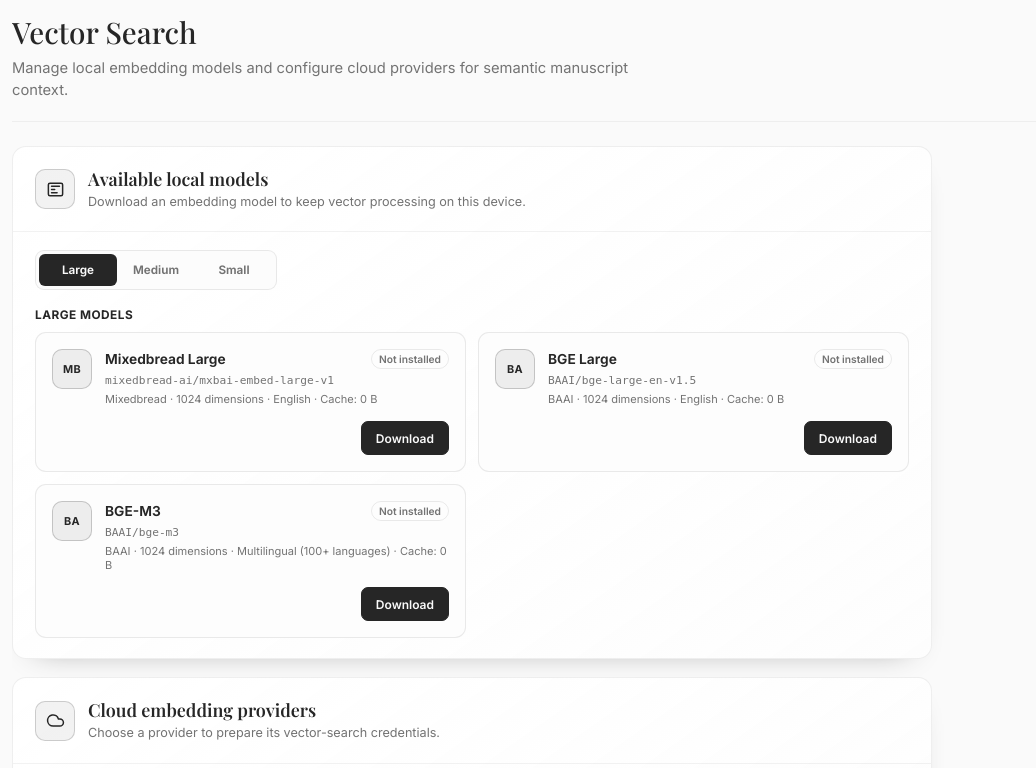
Test case: VectorConfigurationSettingsComponent › loads the catalog and switches between model tiers
Expected: the number of elements with class "local-model-card" is 3, x1=35 y1=332 x2=466 y2=472; x1=478 y1=332 x2=909 y2=472; x1=35 y1=484 x2=466 y2=638
Step 1. Click the radio button labelled "Medium" → [156, 270], box x1=117 y1=254 x2=195 y2=286
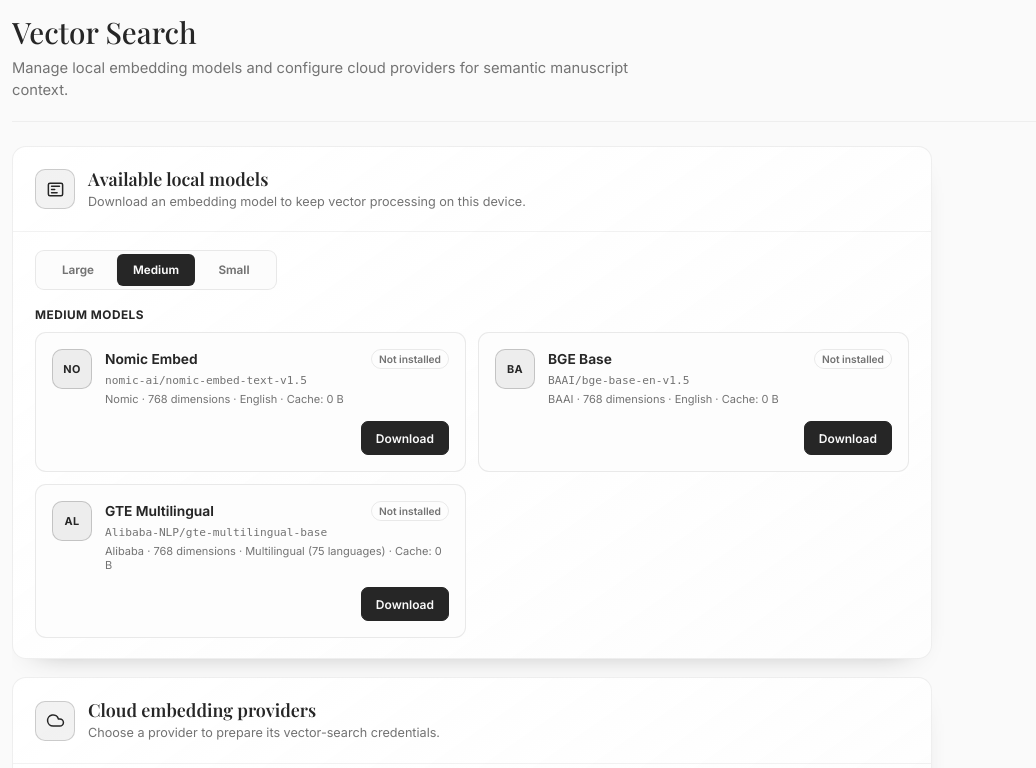
Expected: the number of elements with class "local-model-card" is 3, x1=35 y1=332 x2=466 y2=472; x1=478 y1=332 x2=909 y2=472; x1=35 y1=484 x2=466 y2=638
Now the heading "Medium models" is shown, box x1=35 y1=308 x2=144 y2=322
Now the element with class "local-model-card" shows "768 dimensions", box x1=105 y1=544 x2=442 y2=572
Step 2. Click the radio button labelled "Small" → [234, 270], box x1=195 y1=254 x2=273 y2=286
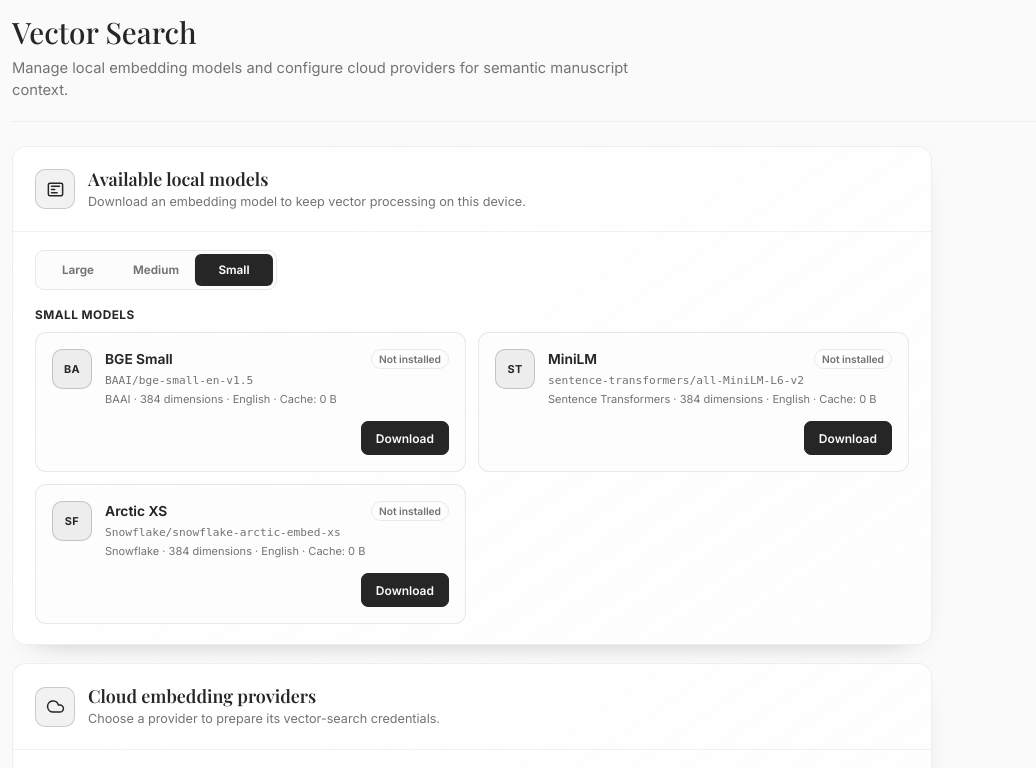
Expected: the number of elements with class "local-model-card" is 3, x1=35 y1=332 x2=466 y2=472; x1=478 y1=332 x2=909 y2=472; x1=35 y1=484 x2=466 y2=624
Now the heading "Small models" is shown, box x1=35 y1=308 x2=135 y2=322
Now the element with class "local-model-card" shows "384 dimensions", box x1=105 y1=544 x2=365 y2=558
